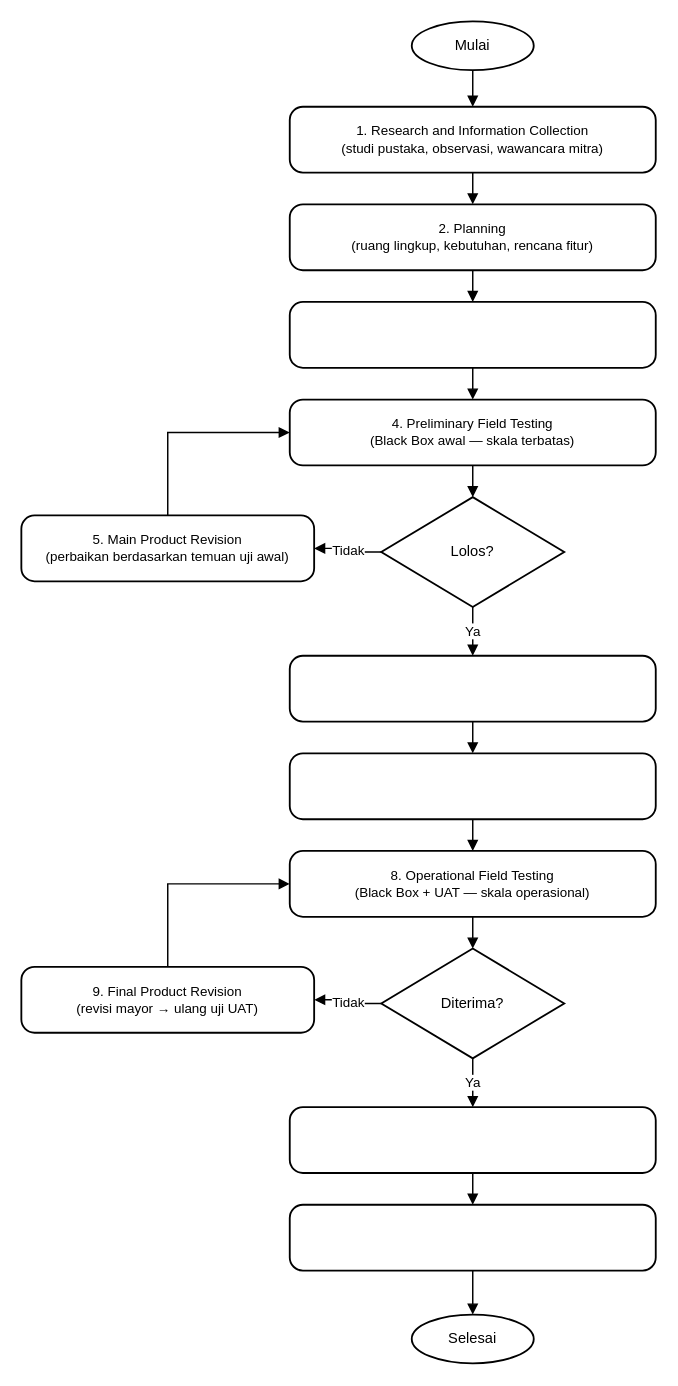
Some shapes in this 678 by 1386 pixel diagram are drawn without their labels. The shapes that lost their labels are listed below. From the top down, each one's centre as x and y in pixels, then its label:
At point (472, 334): "3. Develop Preliminary Product (prototipe Laravel + Filament multi-panel)".
At point (472, 688): "6. Main Field Testing (uji alur multi-role: admin, SPV, kasir, anggota)".
At point (472, 786): "7. Operational Product Revision (revisi operasional / penyesuaian mitra)".
At point (472, 1139): "9. Final Product Revision (non-mayor / kunci scope final)".
At point (472, 1237): "10. Dissemination and Implementation (dokumentasi, demo, penyerahan / publikasi)".
